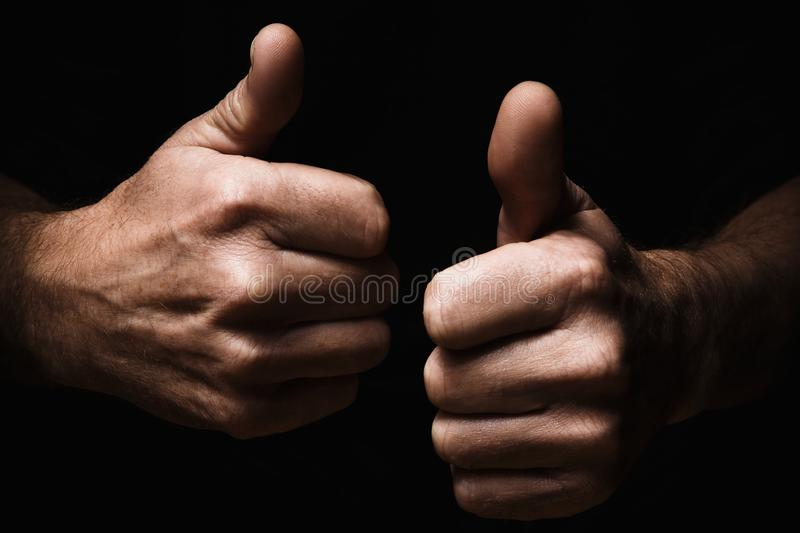thumbsUp: (100, 9, 391, 453), (423, 48, 661, 533)
